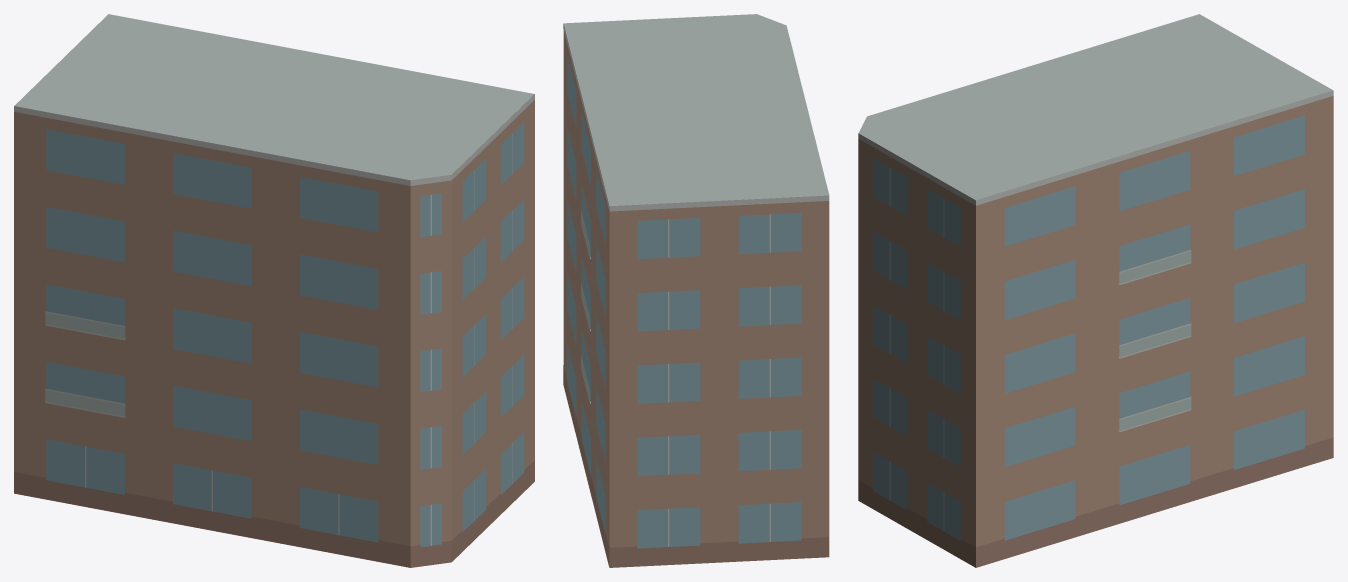
The model's file is survey-upis-32693654.glb.
3 renders of one model, left to right at view 1: azimuth 30°, elevation 25°; view 2: azimuth 150°, elevation 25°; view 3: azimuth 270°, elevation 25°, orthographic. The views are drawn at different scales.
Parts seen in each view (by area): view 1: survey-upis-32693654.tmp; view 2: survey-upis-32693654.tmp; view 3: survey-upis-32693654.tmp.
Boxes of the visible parts, <box> form: survey-upis-32693654.tmp: <box>14,14,534,567</box>; survey-upis-32693654.tmp: <box>563,14,829,567</box>; survey-upis-32693654.tmp: <box>858,14,1333,567</box>.
Size of the model in its own units: 18.07 by 16.6 by 19.46.
